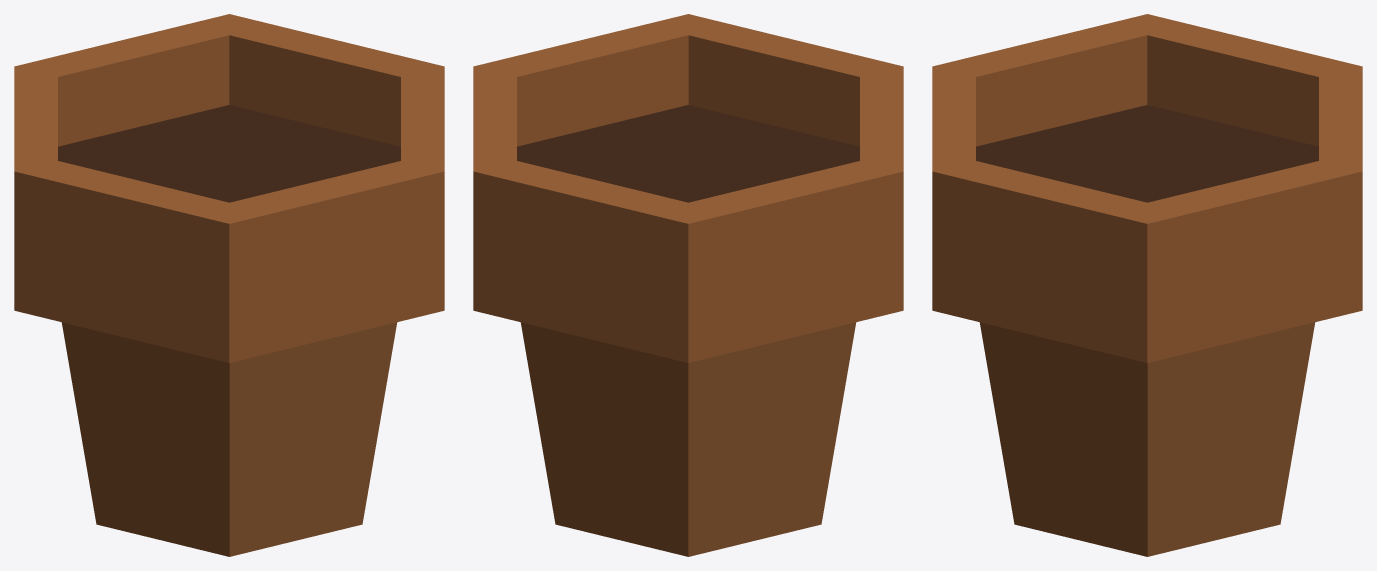
Rendered from pot_small.glb.
3 views of the same model, side by side, from view 1: azimuth 30°, elevation 25°; view 2: azimuth 150°, elevation 25°; view 3: azimuth 270°, elevation 25° (orthographic).
Parts seen in each view (by area): view 1: pot_small; view 2: pot_small; view 3: pot_small.
Boxes of the visible parts, <box> form: pot_small: <box>14,14,444,556</box>; pot_small: <box>473,14,903,556</box>; pot_small: <box>932,14,1362,556</box>.
Bounding box in the file's own units: 0.3234 × 0.268 × 0.2801.
